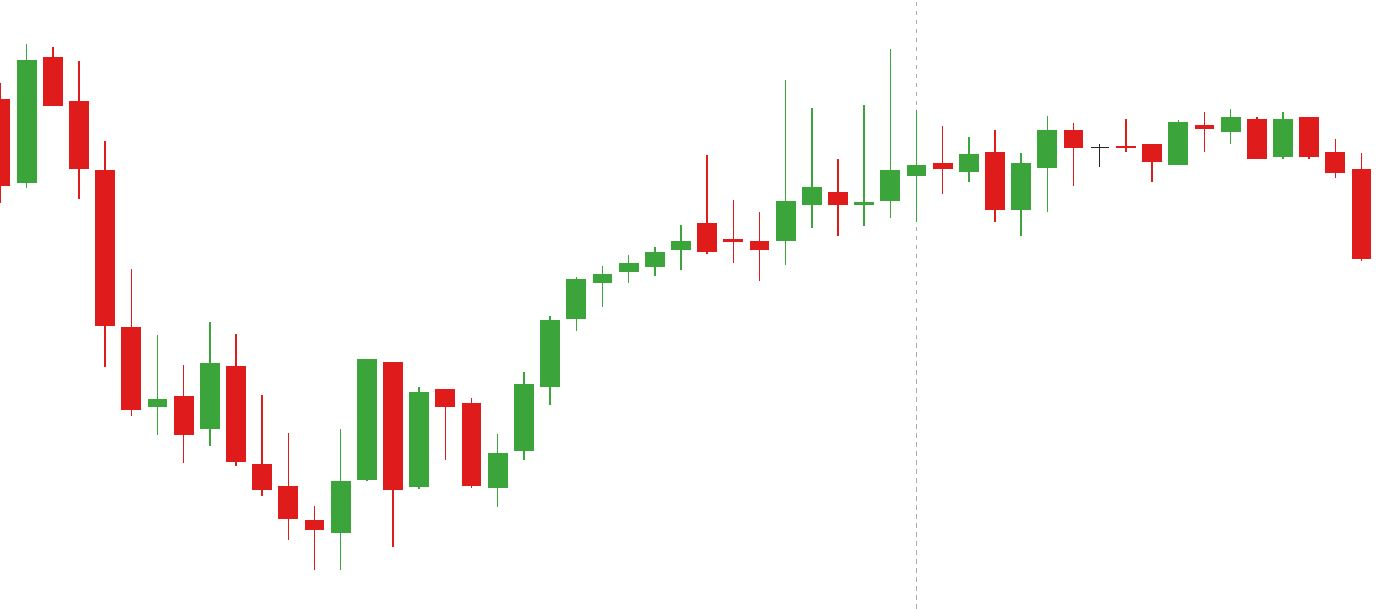sell: (772, 32, 908, 226)
